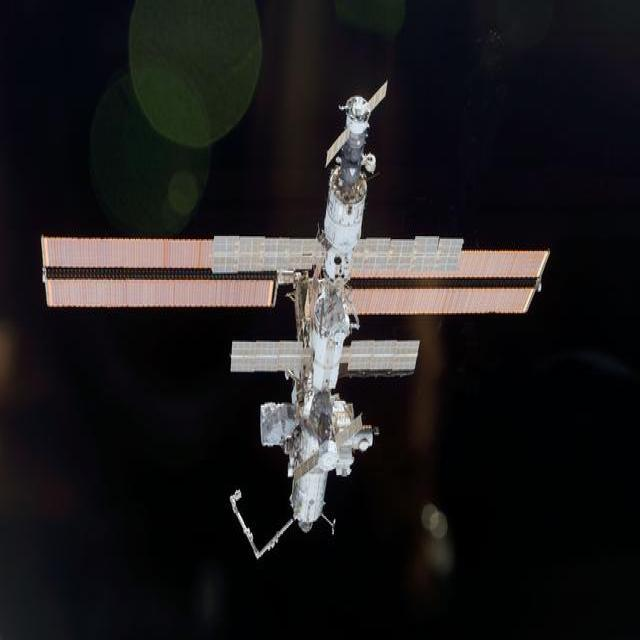satellite: (41, 83, 549, 559)
